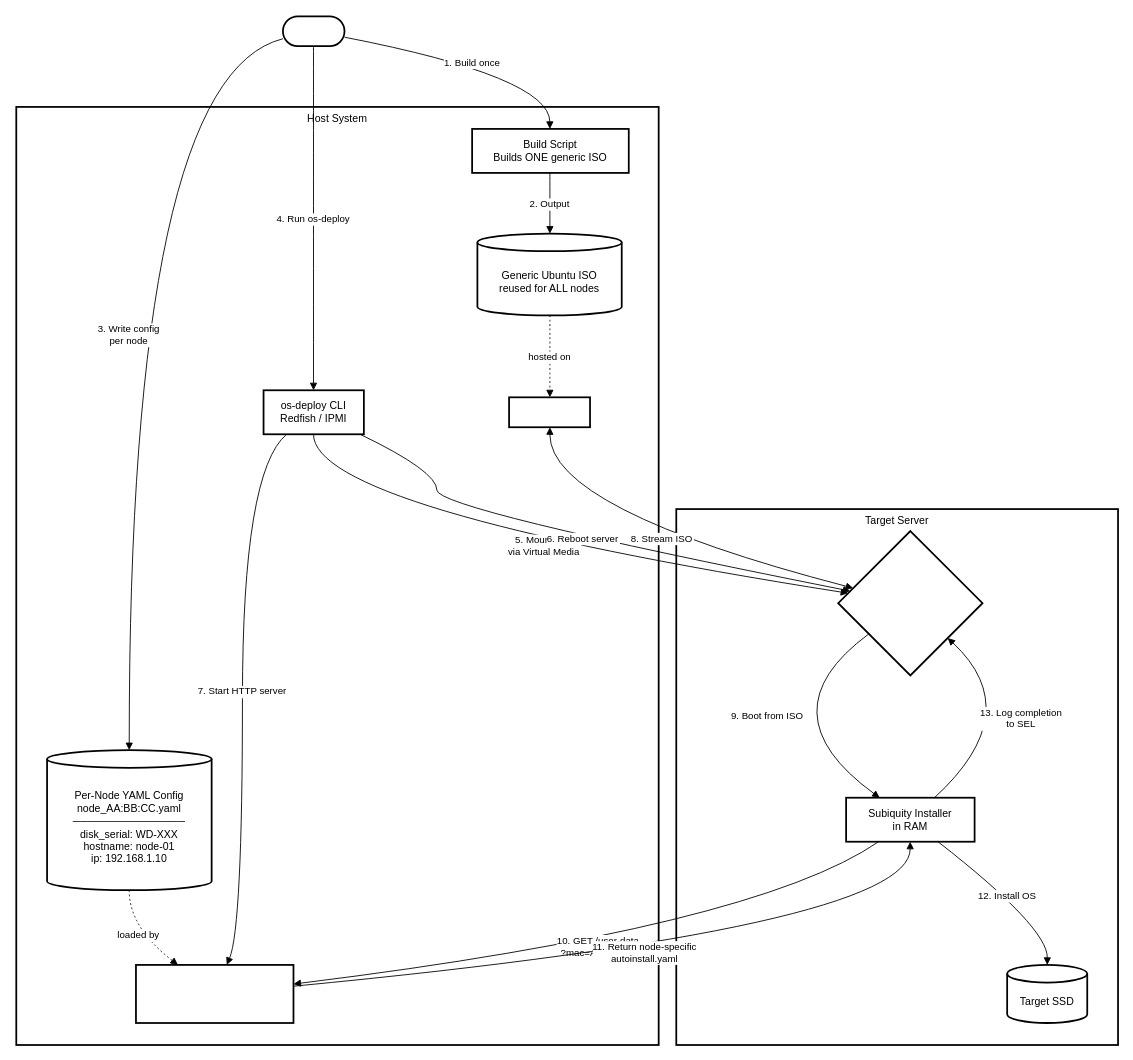
The diagram is 1133 pixels wide and 1060 high, and some of its shapes have lost their labels. The shapes that lost their labels are listed below. From the top down, each one's centre as x and y in pixels, then its label:
(313,31): Admin
(549,412): NFS Server
(910,603): BMC Redfish / IPMI
(214,993): HTTP User-Data Server :8080 new component
